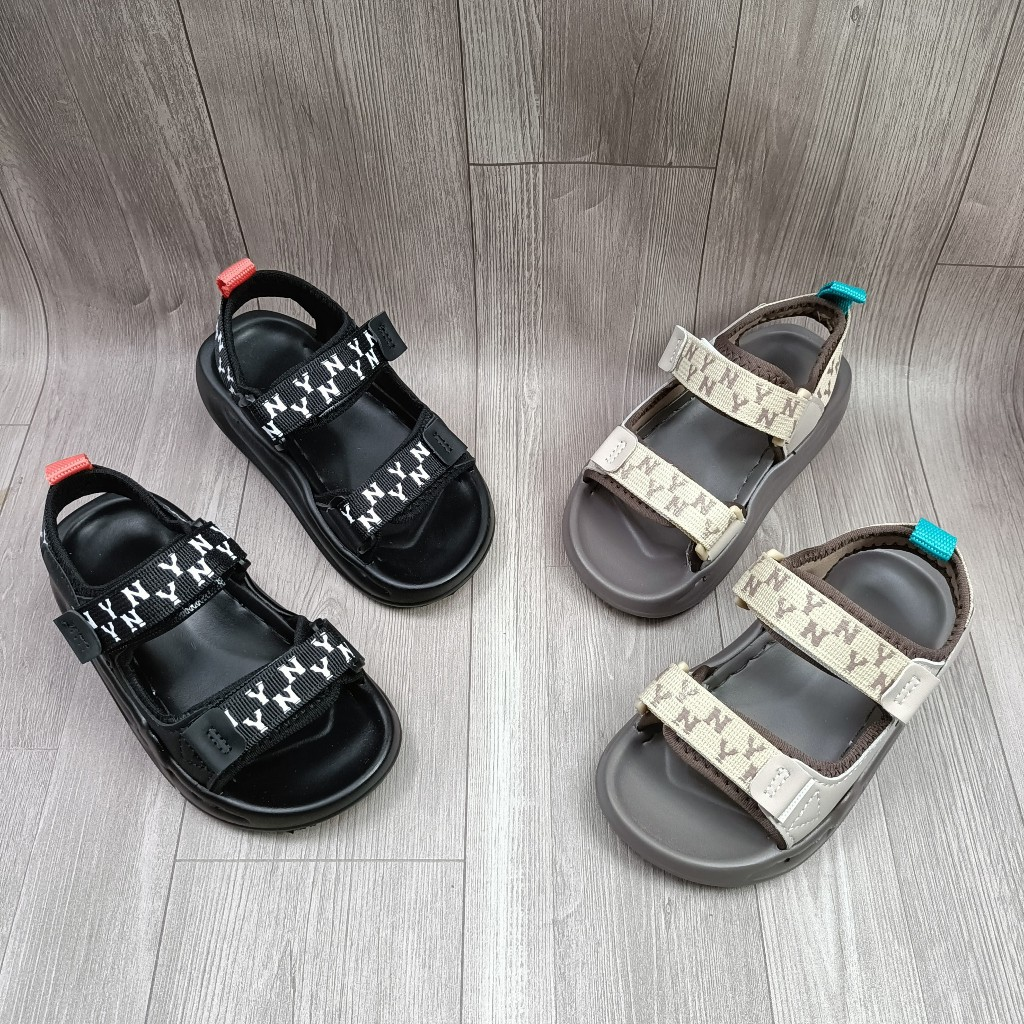sandals: (589, 519, 973, 891), (35, 452, 406, 837), (197, 255, 502, 612), (561, 280, 865, 621)
